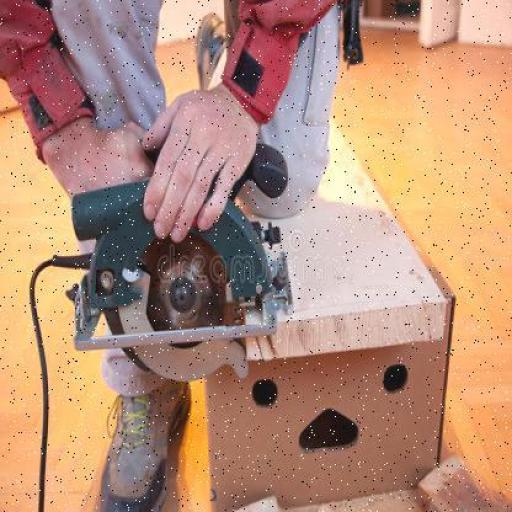safety_shoe: (98, 370, 191, 511)
